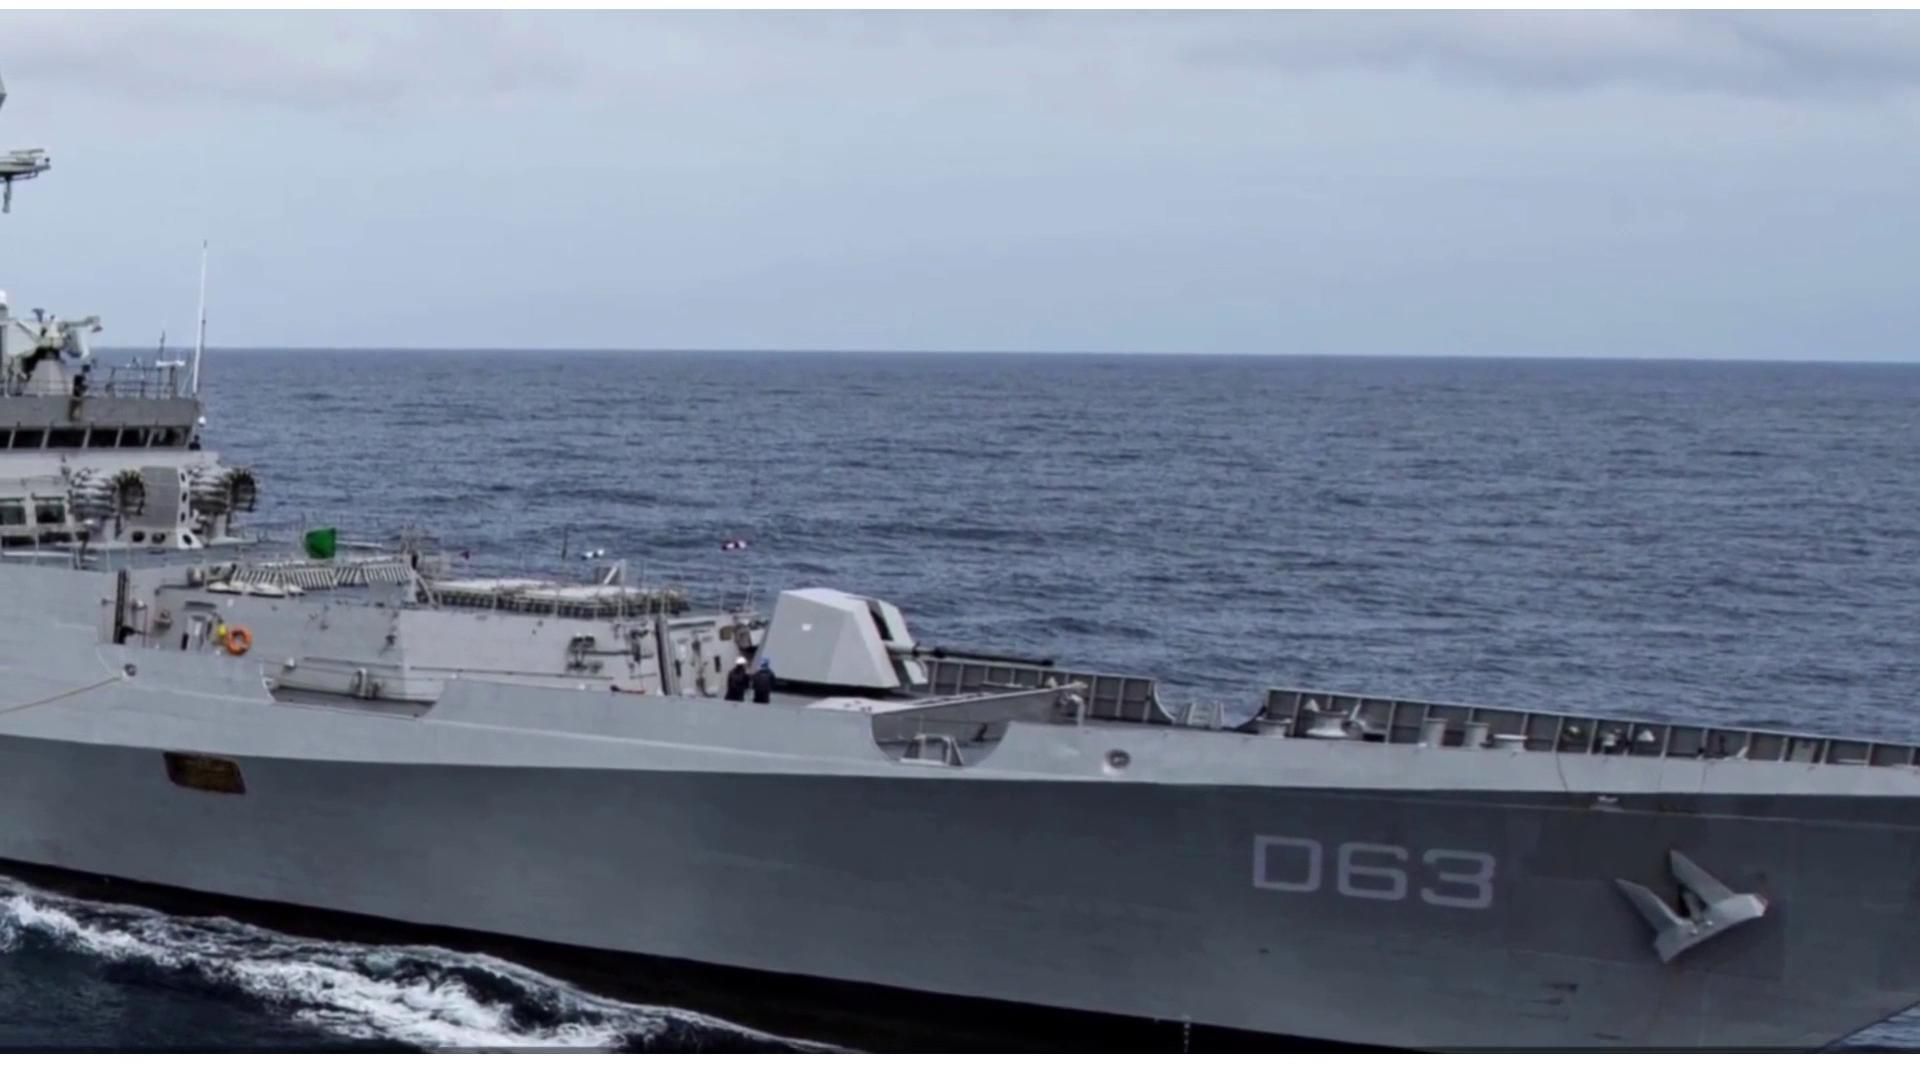OCR: (1235, 830, 1502, 923)
